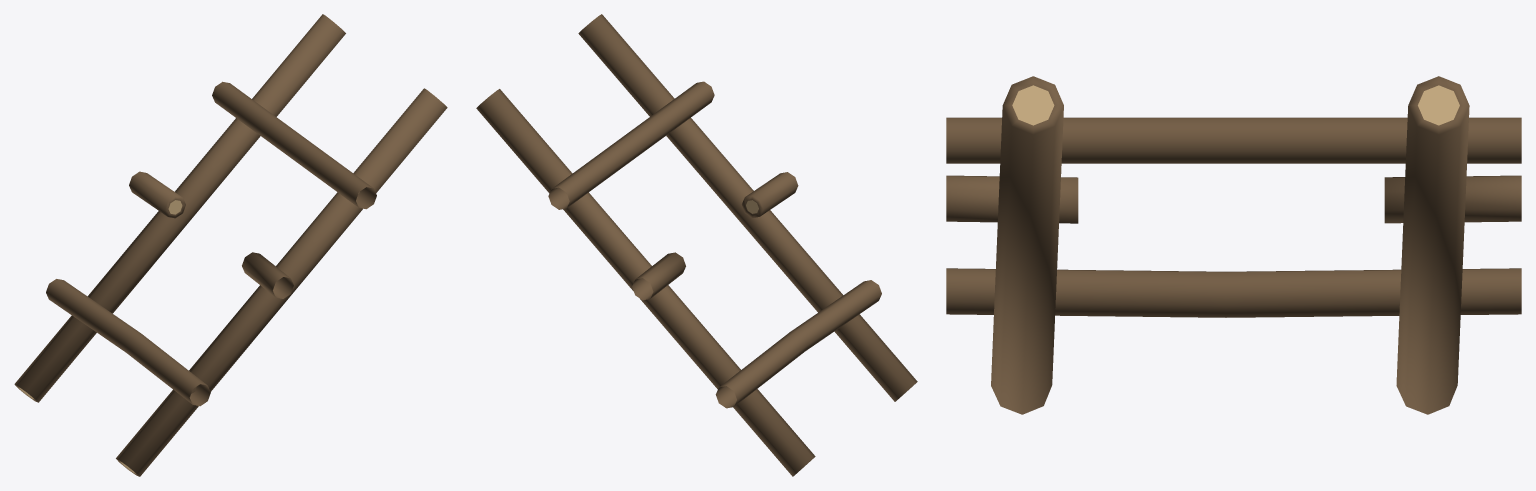
File: rpgpp_ag_roof_support_01_6x3x3_half_a_roof_01d.fbx
The picture shows the model from 3 angles, left to right: view 1: azimuth 30°, elevation 25°; view 2: azimuth 150°, elevation 25°; view 3: azimuth 270°, elevation 25°; orthographic projection. The views are drawn at different scales.
Parts seen in each view (by area): view 1: rpgpp_ag_roof_support_01_6x3x3_half_a_roof_01d; view 2: rpgpp_ag_roof_support_01_6x3x3_half_a_roof_01d; view 3: rpgpp_ag_roof_support_01_6x3x3_half_a_roof_01d.
Boxes of the visible parts, x1=… form: rpgpp_ag_roof_support_01_6x3x3_half_a_roof_01d: x1=14, y1=14, x2=447, y2=476; rpgpp_ag_roof_support_01_6x3x3_half_a_roof_01d: x1=476, y1=14, x2=917, y2=476; rpgpp_ag_roof_support_01_6x3x3_half_a_roof_01d: x1=946, y1=76, x2=1521, y2=414.
Bounding box in the file's own units: 3.96 × 3.59 × 3.
